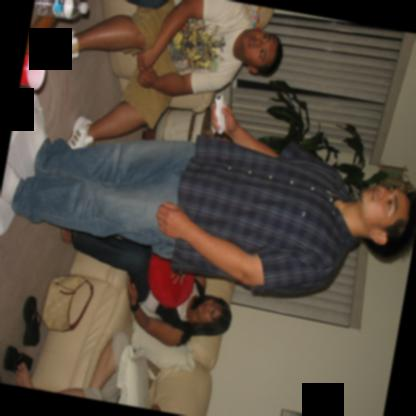handbag: (40, 274, 93, 332)
